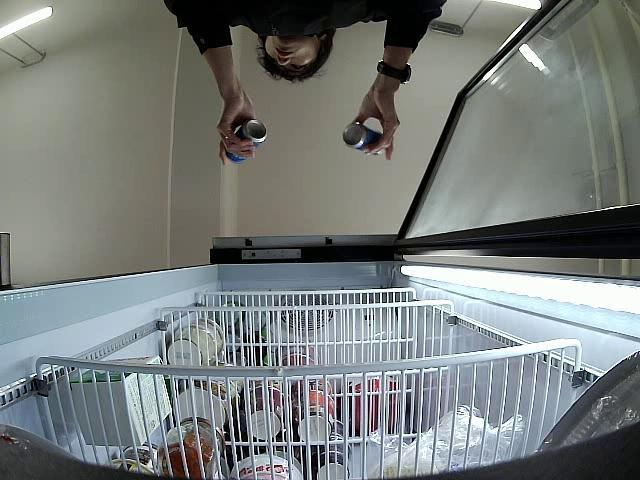15_letsbe: (226, 120, 266, 161), (342, 123, 382, 152)
